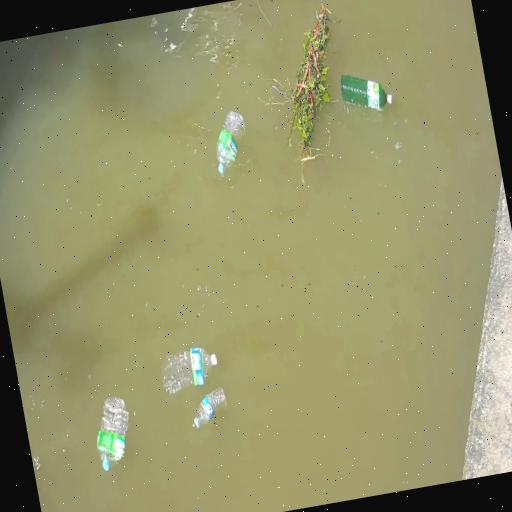plastic: (87, 391, 141, 476), (157, 333, 222, 394), (206, 106, 256, 184), (338, 65, 395, 119), (184, 384, 238, 434)
twig: (258, 2, 360, 172)
